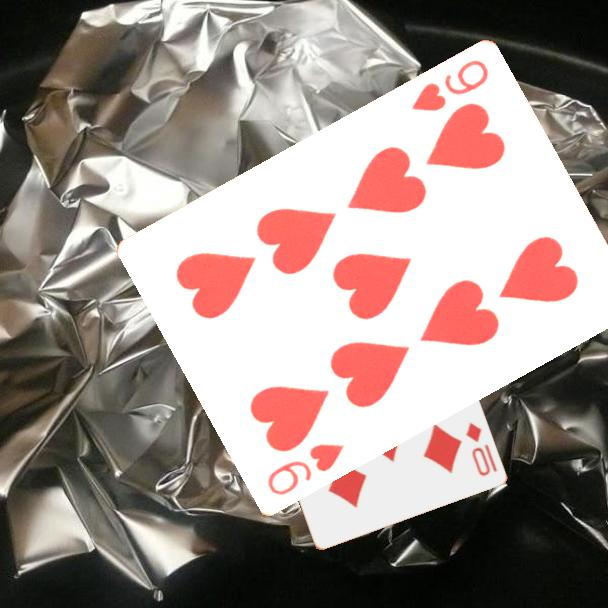d10: (462, 418, 500, 479)
h09: (263, 440, 347, 500), (408, 56, 492, 115)
